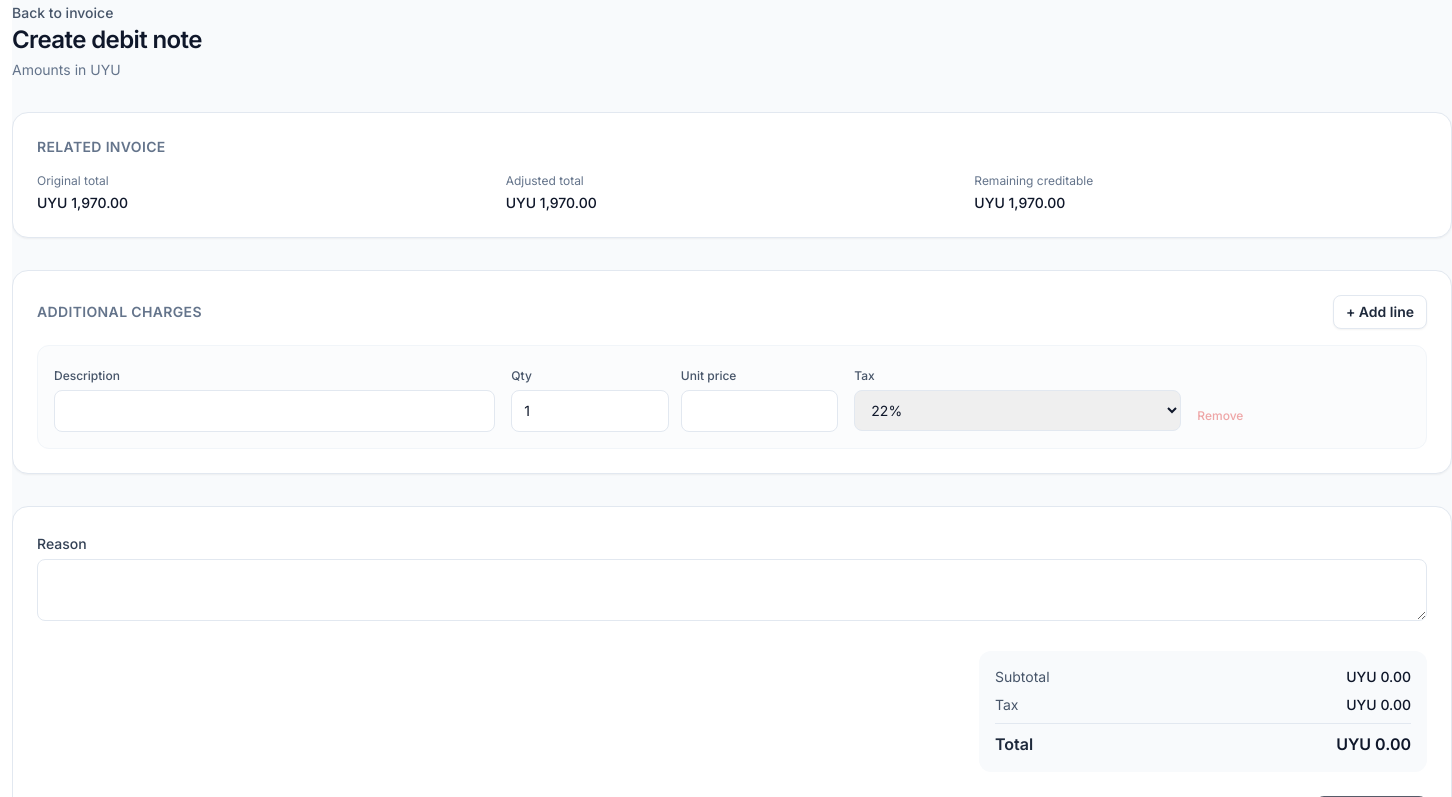
Test: debit note creation › computes the total from a free-form line with tax
Expected: the heading "Additional charges" is shown, [37,302,202,322]
In the field labelled "Description": (275,411) [54,390,495,432], type "Extra delivery"
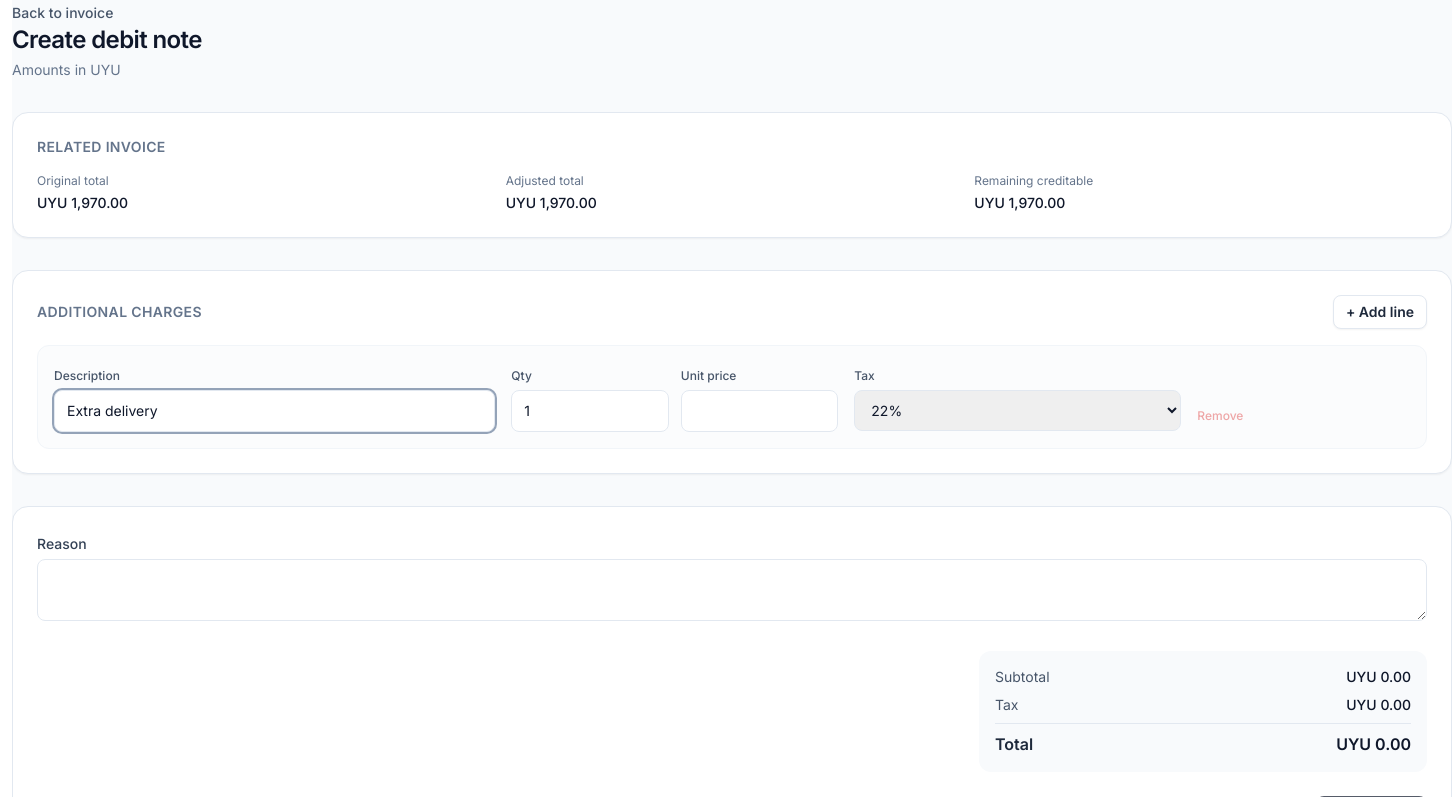
In the number field labelled "Unit price": (760,411) [681,390,838,432], type "100"
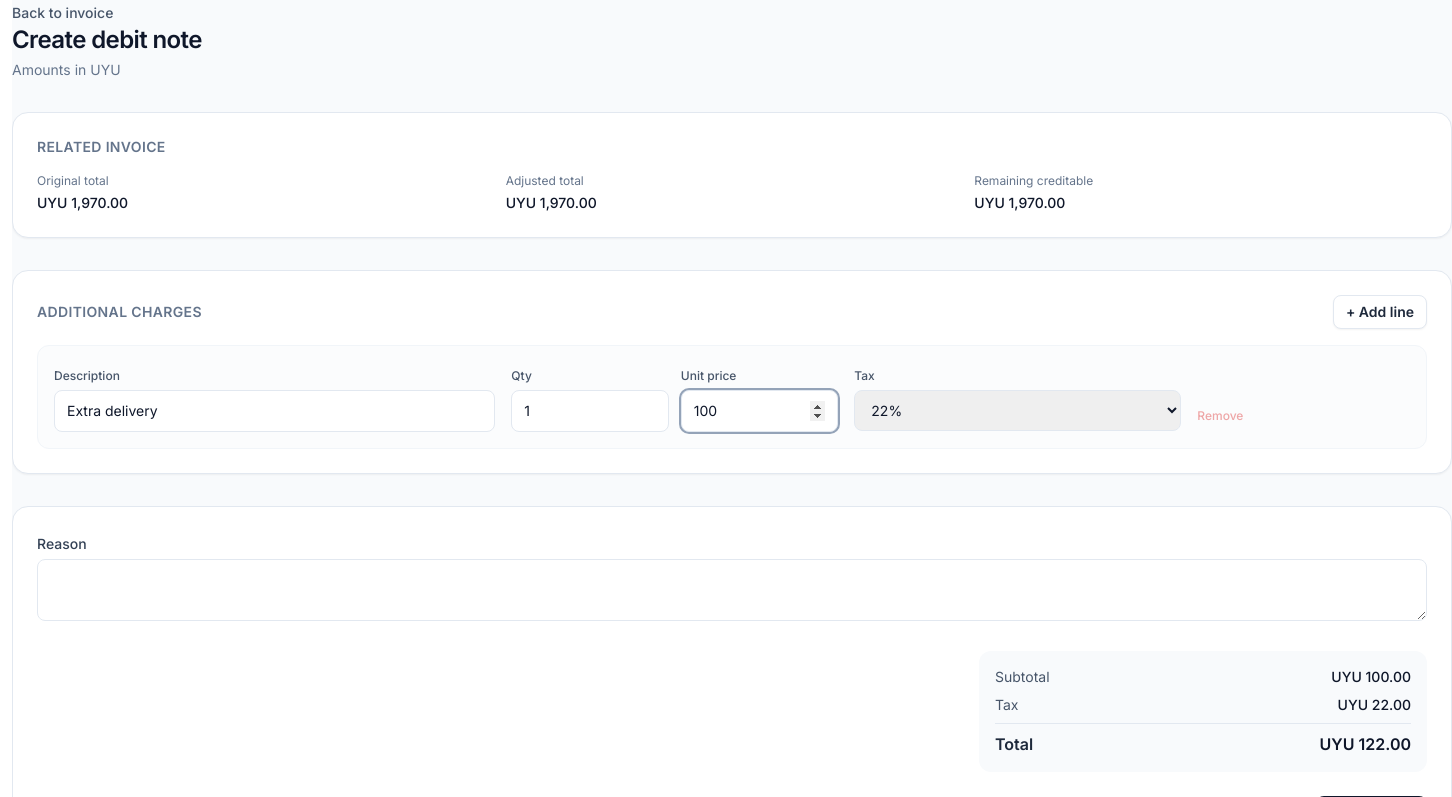
Result: the text with test id "note-total" shows "122" at [1320,734,1411,754]
